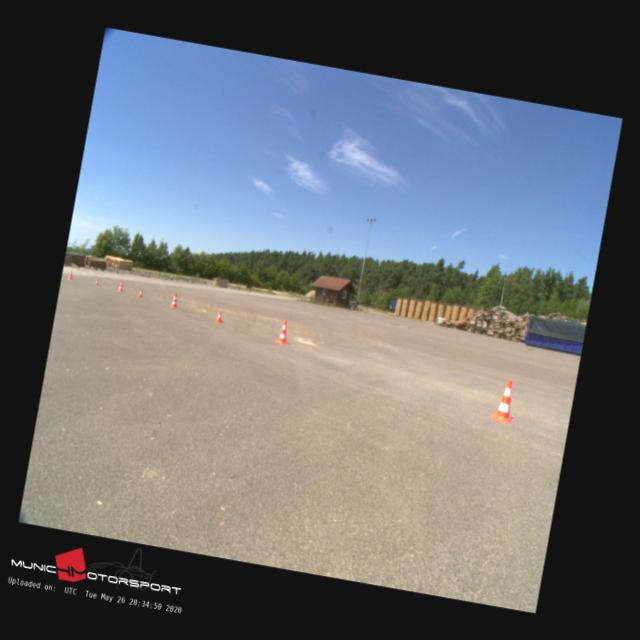large_orange_cone: (491, 378, 519, 422), (274, 318, 292, 344), (170, 292, 178, 307), (117, 278, 124, 292), (66, 269, 74, 280)
orange_cone: (216, 309, 223, 322), (138, 288, 144, 297), (94, 278, 100, 284)
